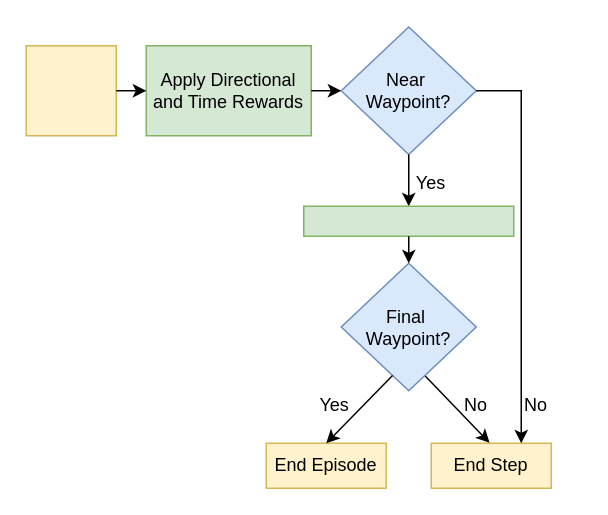
The diagram is 608 pixels wide and 515 high, and some of its shapes have lost their labels. The shapes that lost their labels are listed below. From the top down, each one's centre as x and y in pixels, then its label:
At pixel 70 90: "Start Step".
At pixel 408 220: "Apply Waypoint Reward".
